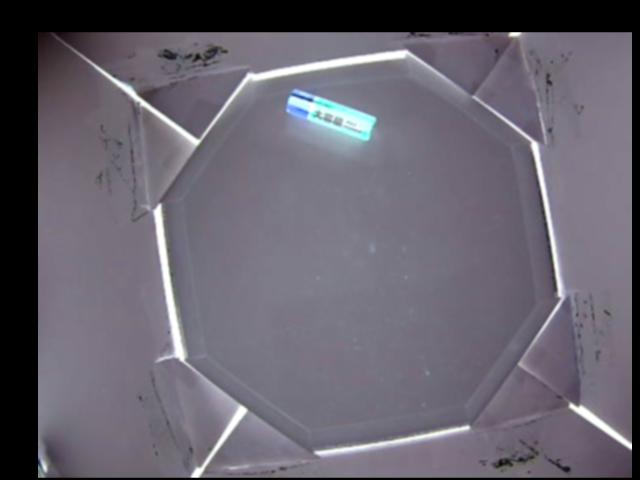Battery: (285, 87, 376, 139)
